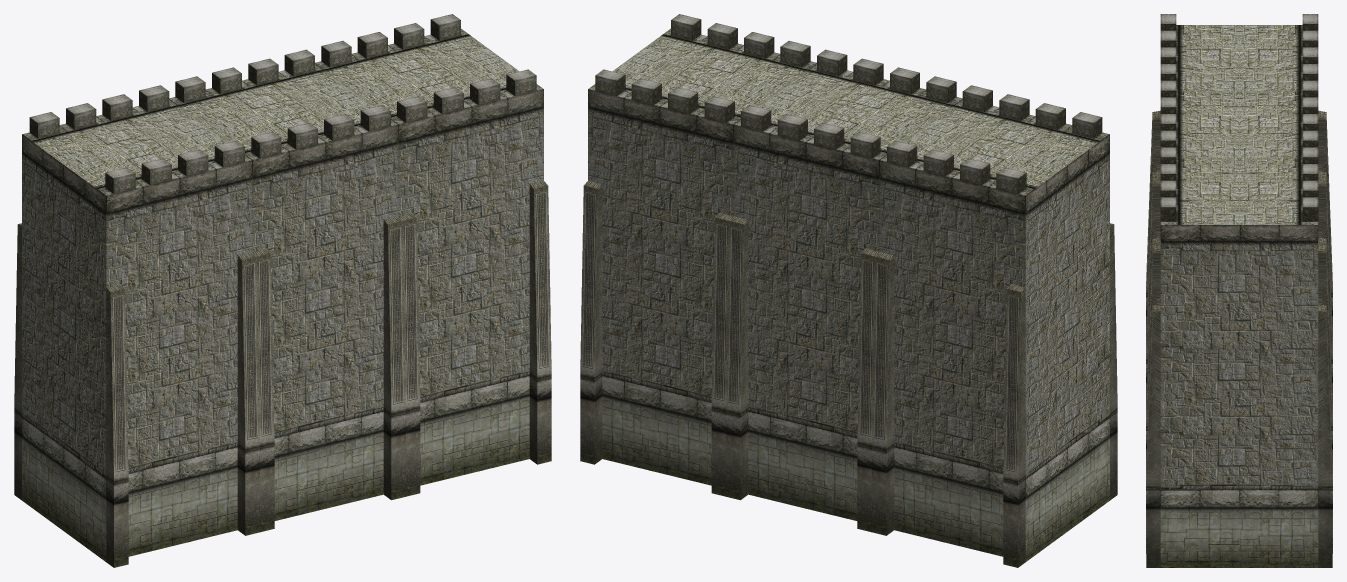
The model's file is b1-bigdam-04.fbx.
3 renders of one model, left to right at view 1: azimuth 30°, elevation 25°; view 2: azimuth 150°, elevation 25°; view 3: azimuth 270°, elevation 25°, orthographic. The views are drawn at different scales.
Visible parts, largest first — view 1: b1-bigdam-04; view 2: b1-bigdam-04; view 3: b1-bigdam-04.
Part boxes in pixels (box(x1,y1,x2,y2)): b1-bigdam-04: box(14, 14, 551, 567); b1-bigdam-04: box(580, 14, 1117, 567); b1-bigdam-04: box(1146, 14, 1332, 567).
Size of the model in its own units: 30 by 25 by 11.84.
